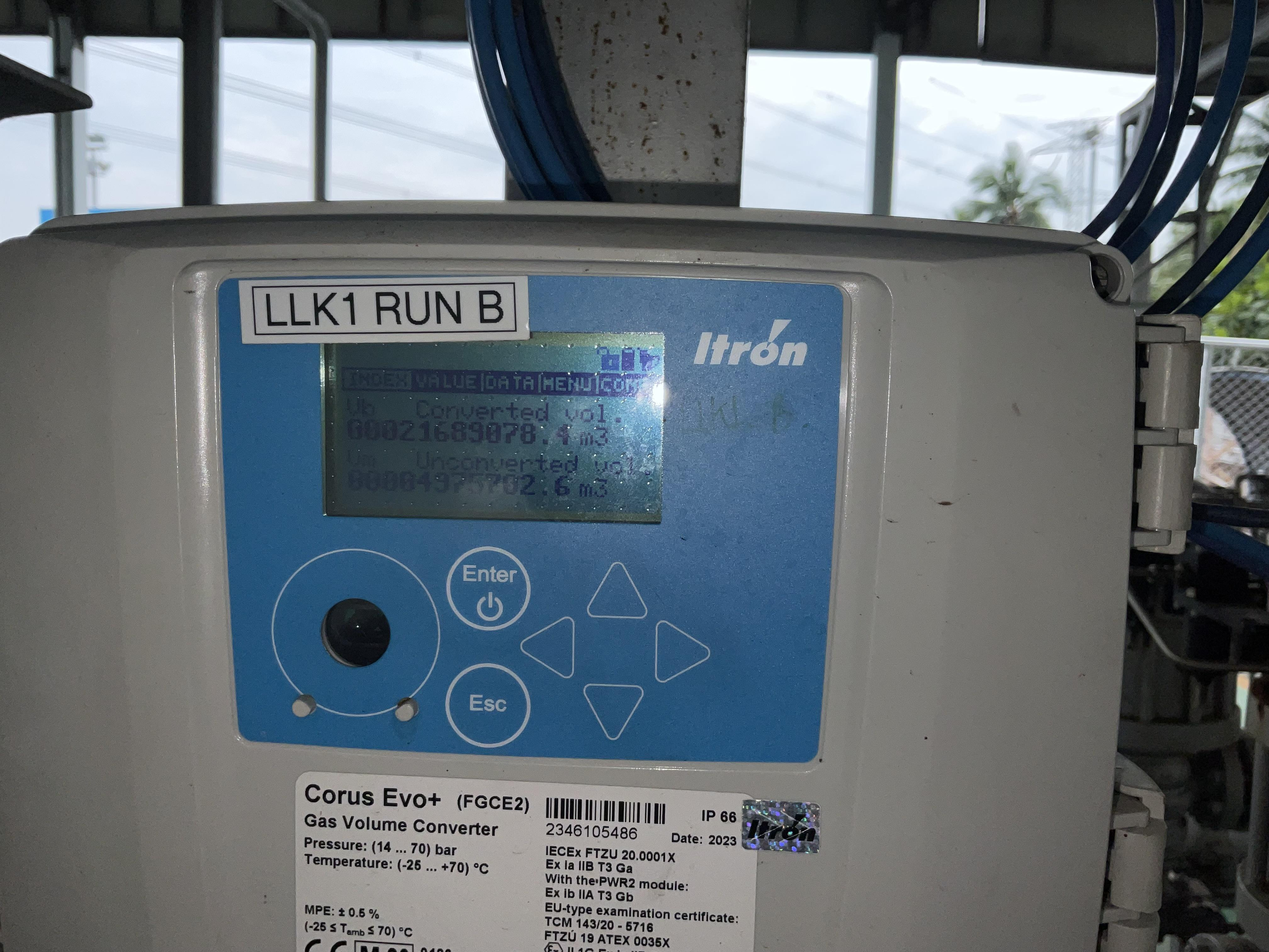digital_screen: (316, 326, 665, 524)
